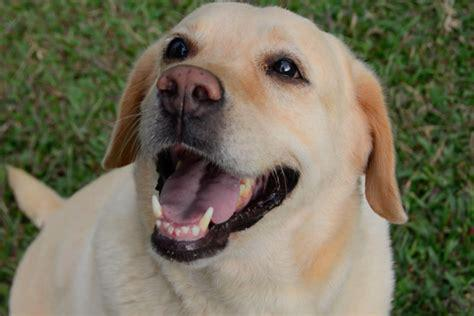dog: (9, 2, 406, 316)
